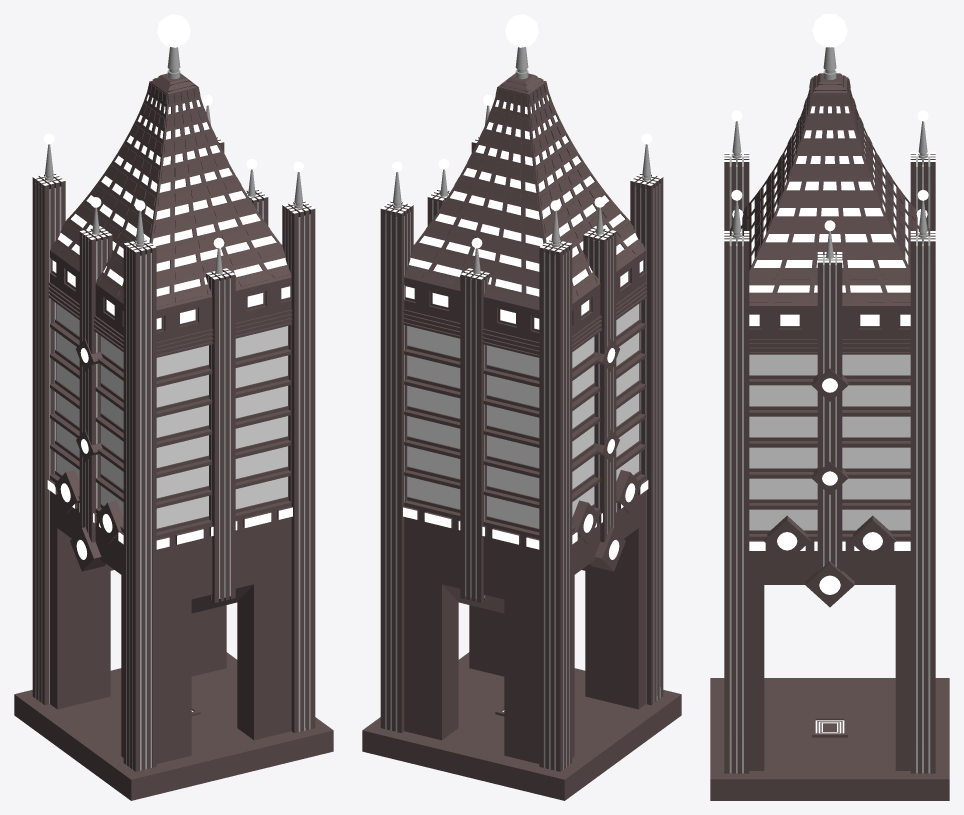
File: ams_s2.glb
3 views of the same model, side by side, from view 1: azimuth 30°, elevation 25°; view 2: azimuth 150°, elevation 25°; view 3: azimuth 270°, elevation 25° (orthographic). The views are drawn at different scales.
Visible parts, largest first — view 1: S2; view 2: S2; view 3: S2.
Part boxes in pixels (box(x1,y1,x2,y2)): S2: box(14, 14, 333, 800); S2: box(362, 14, 681, 800); S2: box(710, 14, 949, 800).
Bounding box in the file's own units: 2 × 6.78 × 2.
4 materials, 3 textured.
